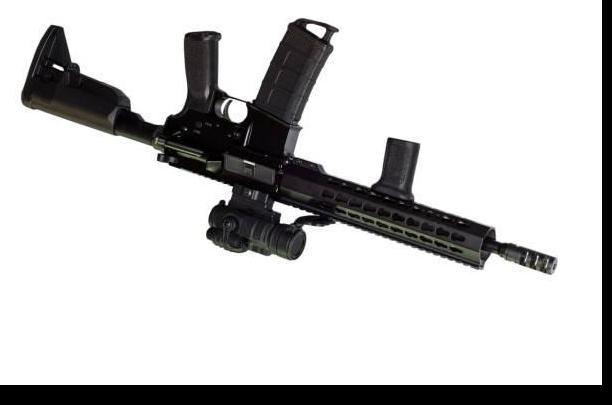larga: (20, 18, 559, 277)
